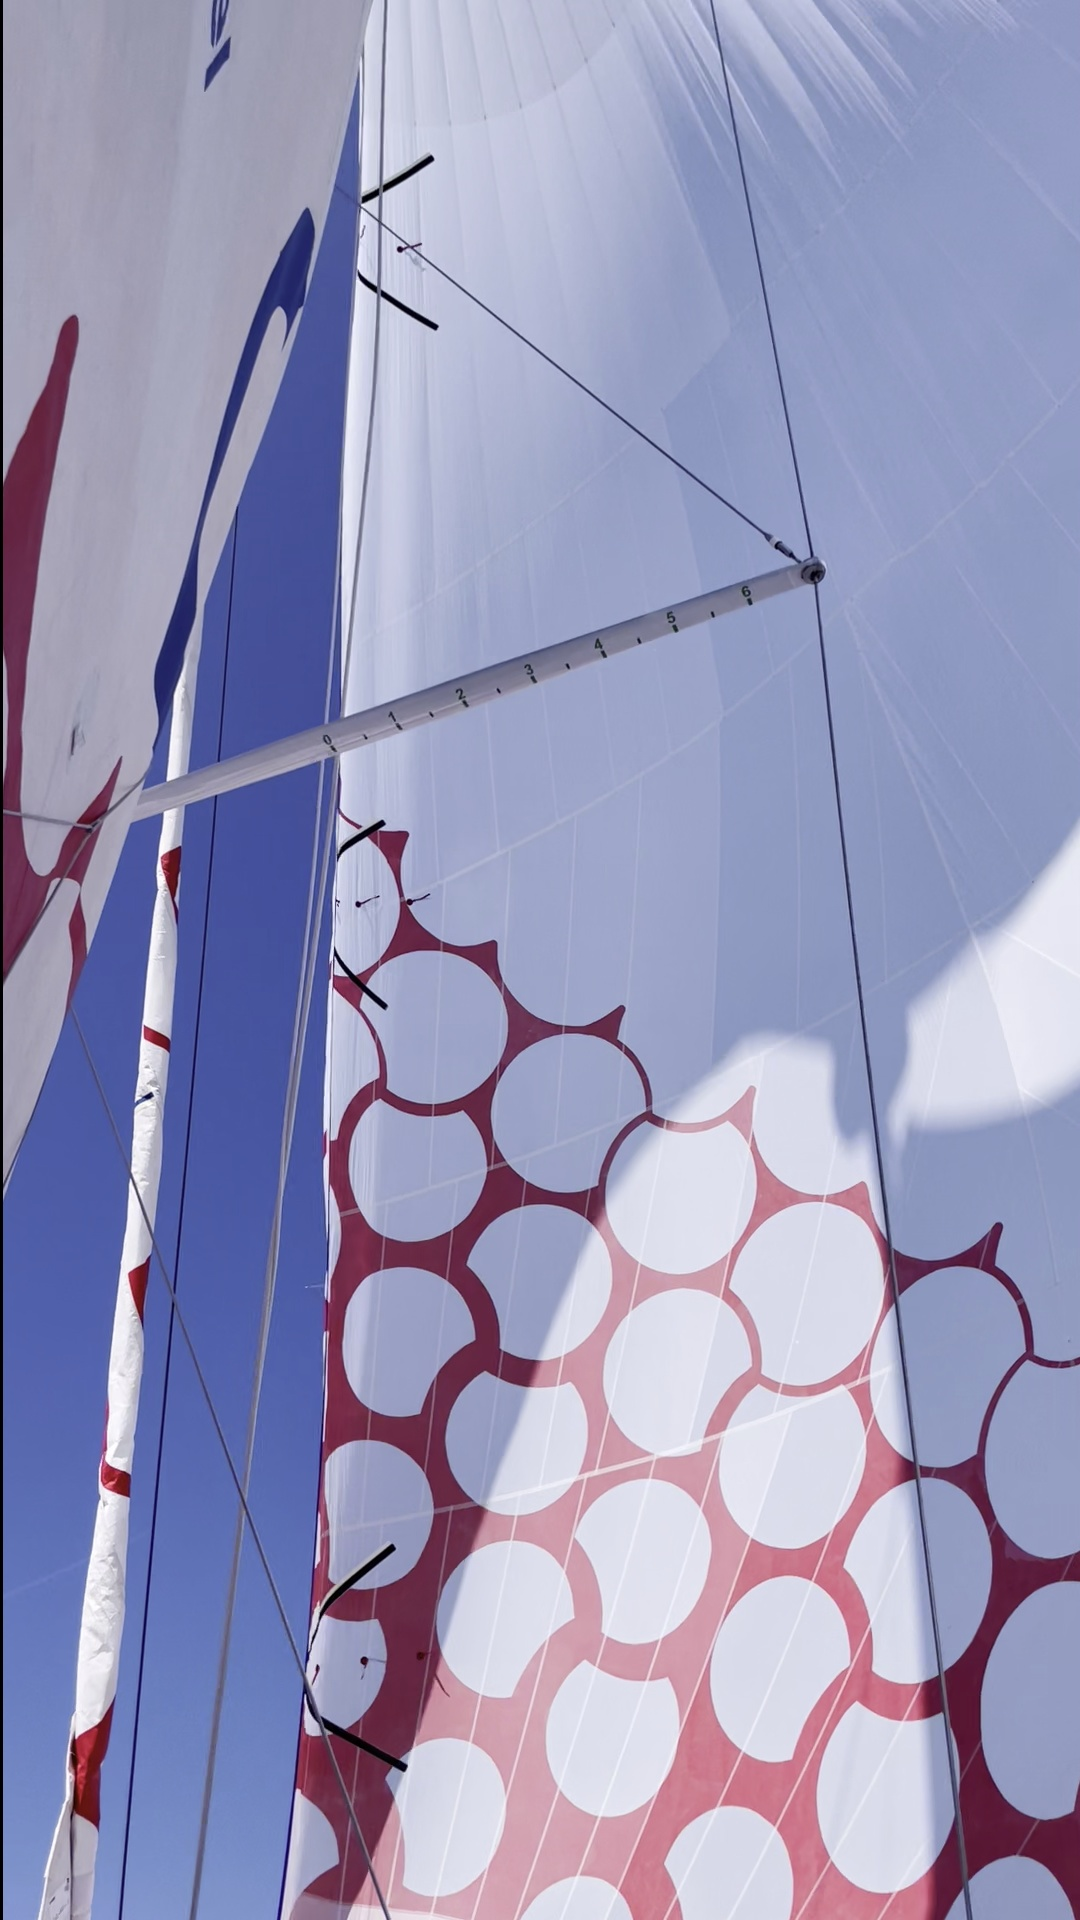pennon_attached: (389, 239, 433, 261), (355, 890, 382, 911), (401, 894, 433, 911)
pennon_detached: (347, 1650, 378, 1689), (406, 1644, 444, 1665), (306, 1659, 322, 1689)
